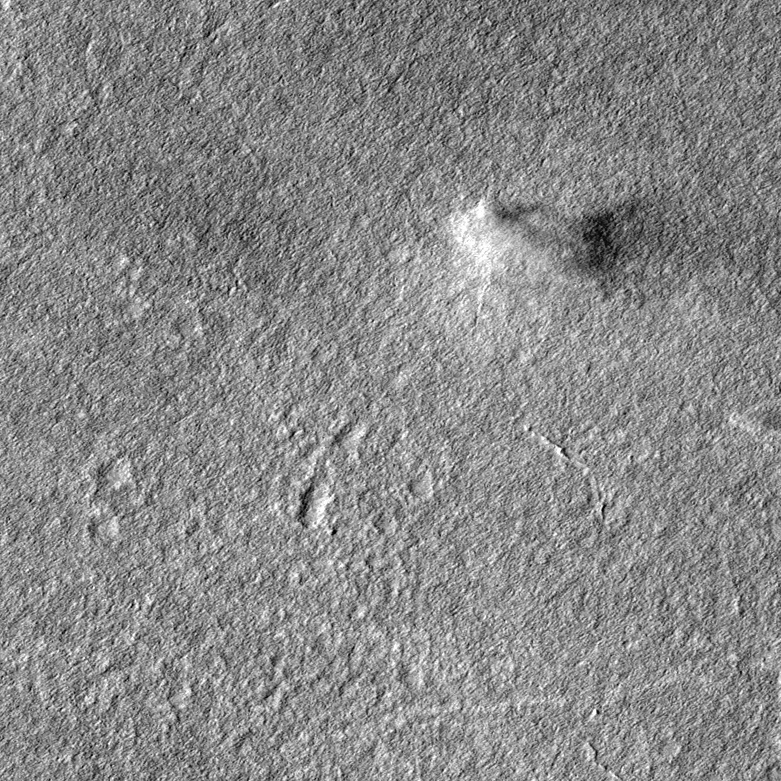dust_devil: (443, 186, 662, 307)
